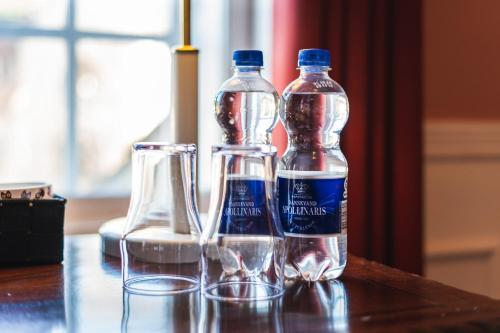bottle: (270, 40, 356, 290), (207, 43, 279, 280)
